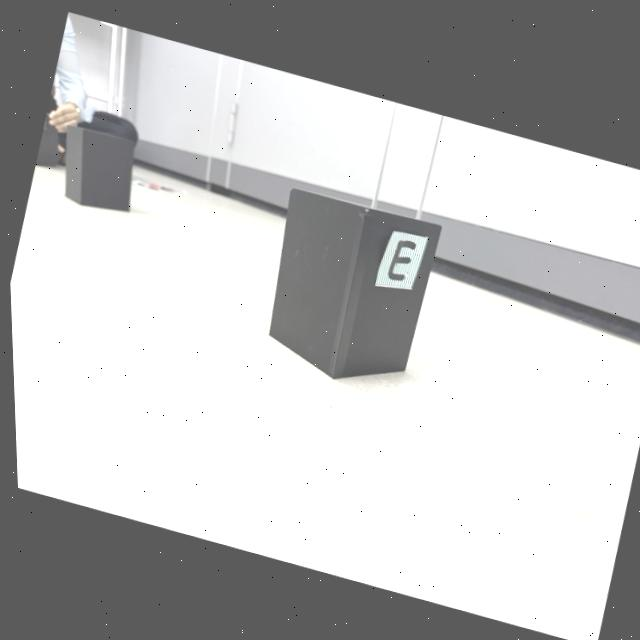E: (386, 238, 414, 278)
